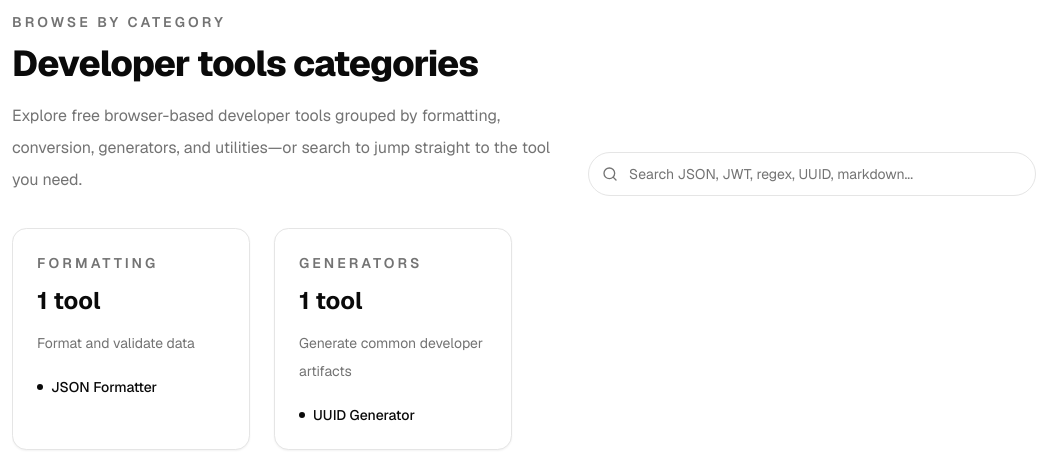
Test case: CategoryExplorer › shows an empty state when nothing matches the search query
Type "nonexistent-tool-xyz" into the field named "Search developer tools" at x=812, y=174, box [588,152,1036,196]
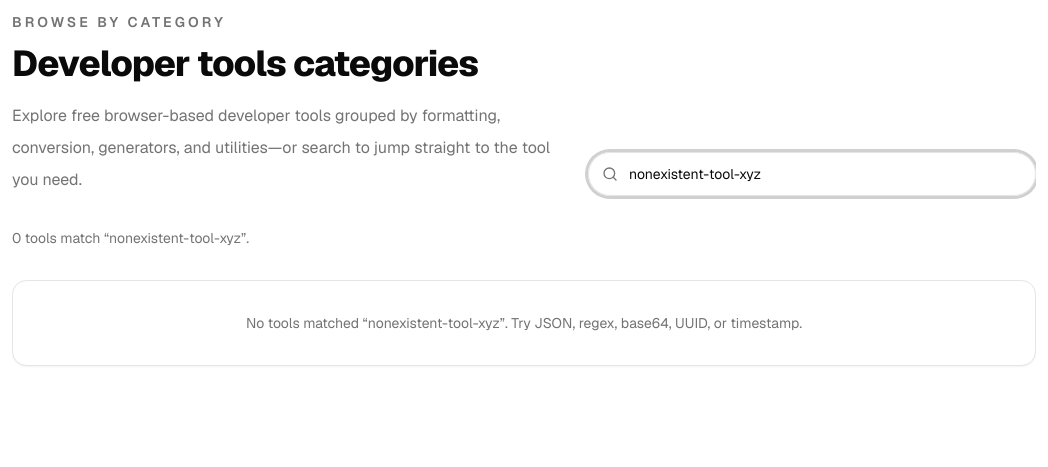
Expected: the text "No tools matched" is shown, [246,314,368,332]
